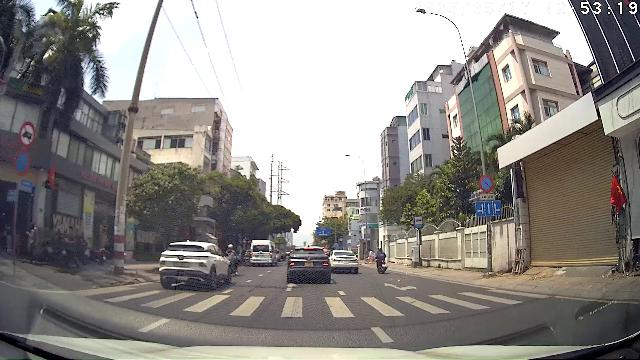131a-cam-do-xe: (479, 174, 494, 192)
